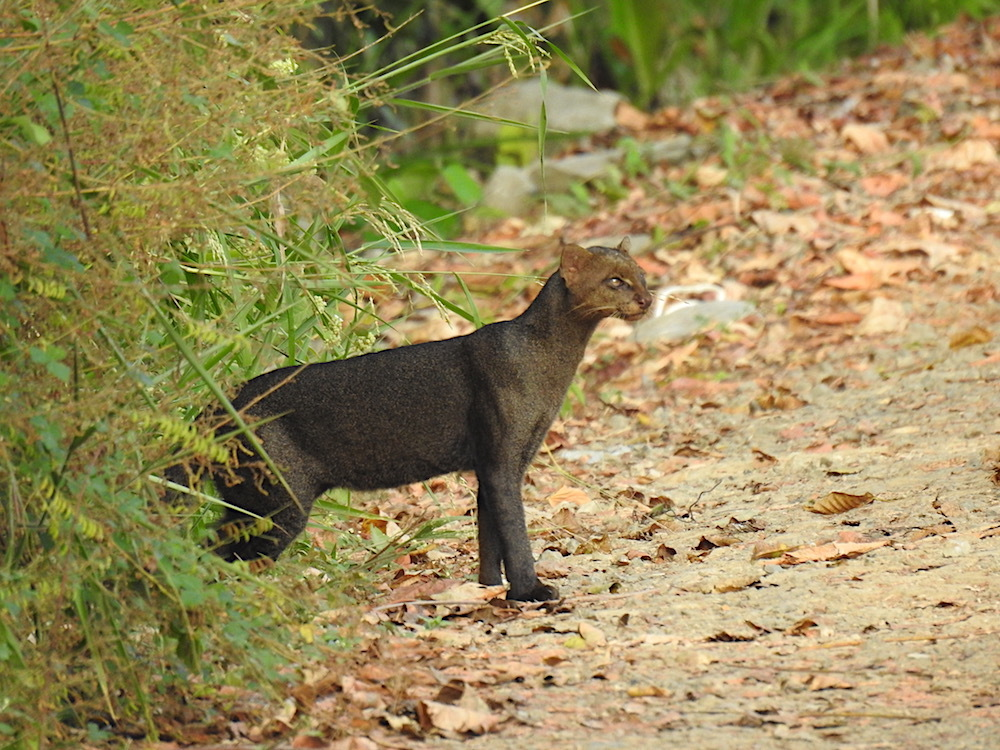Jaguarundi: (153, 230, 656, 607)
